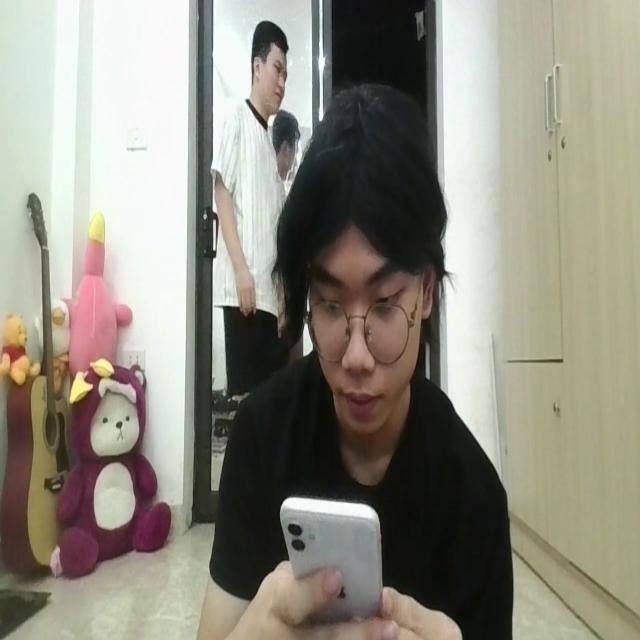extra_person: (211, 24, 293, 400)
phone: (275, 489, 386, 622)
student: (213, 99, 514, 640)
